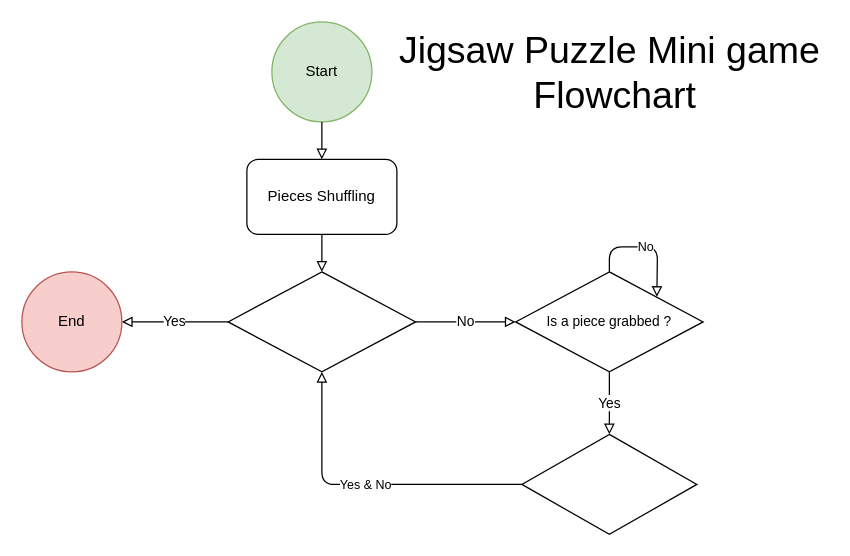
This 850x556 diagram has some shape labels left out. Here are the shapes that lost their labels. From the top down, the centre of each, then its label:
At (x=321, y=321): "are all puzzle pieces on the right place ?".
At (x=609, y=483): "Is the piece released on the right place ?".
